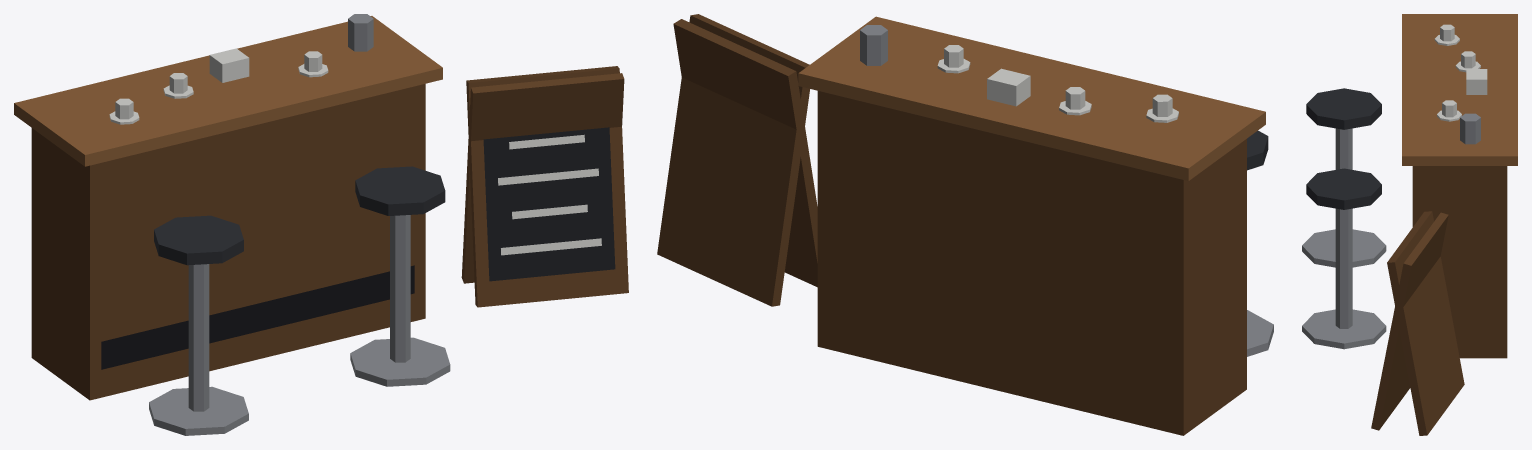
Rendered from prop_bar-counter.glb.
3 views of the same model, side by side, from view 1: azimuth 30°, elevation 25°; view 2: azimuth 150°, elevation 25°; view 3: azimuth 270°, elevation 25° (orthographic). The views are drawn at different scales.
Visible parts, largest first — view 1: body; view 2: body; view 3: body.
Boxes of the visible parts, x1=… form: body: x1=14, y1=14, x2=628, y2=435; body: x1=657, y1=14, x2=1273, y2=435; body: x1=1302, y1=14, x2=1517, y2=435.
Size of the model in its own units: 2.43 by 1.2 by 1.03.
